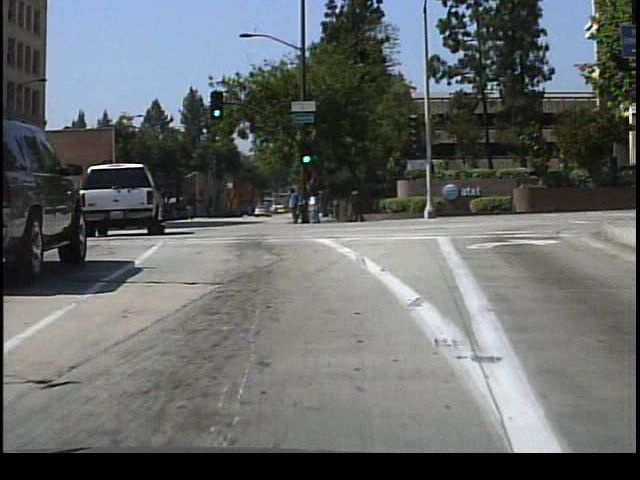person: (284, 179, 303, 227), (305, 188, 324, 225)
